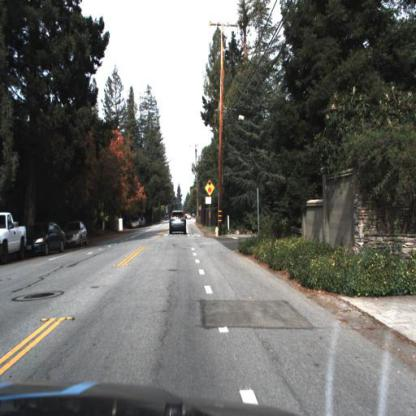car: (1, 211, 29, 267), (25, 224, 66, 255), (64, 222, 90, 249), (168, 208, 188, 238)
